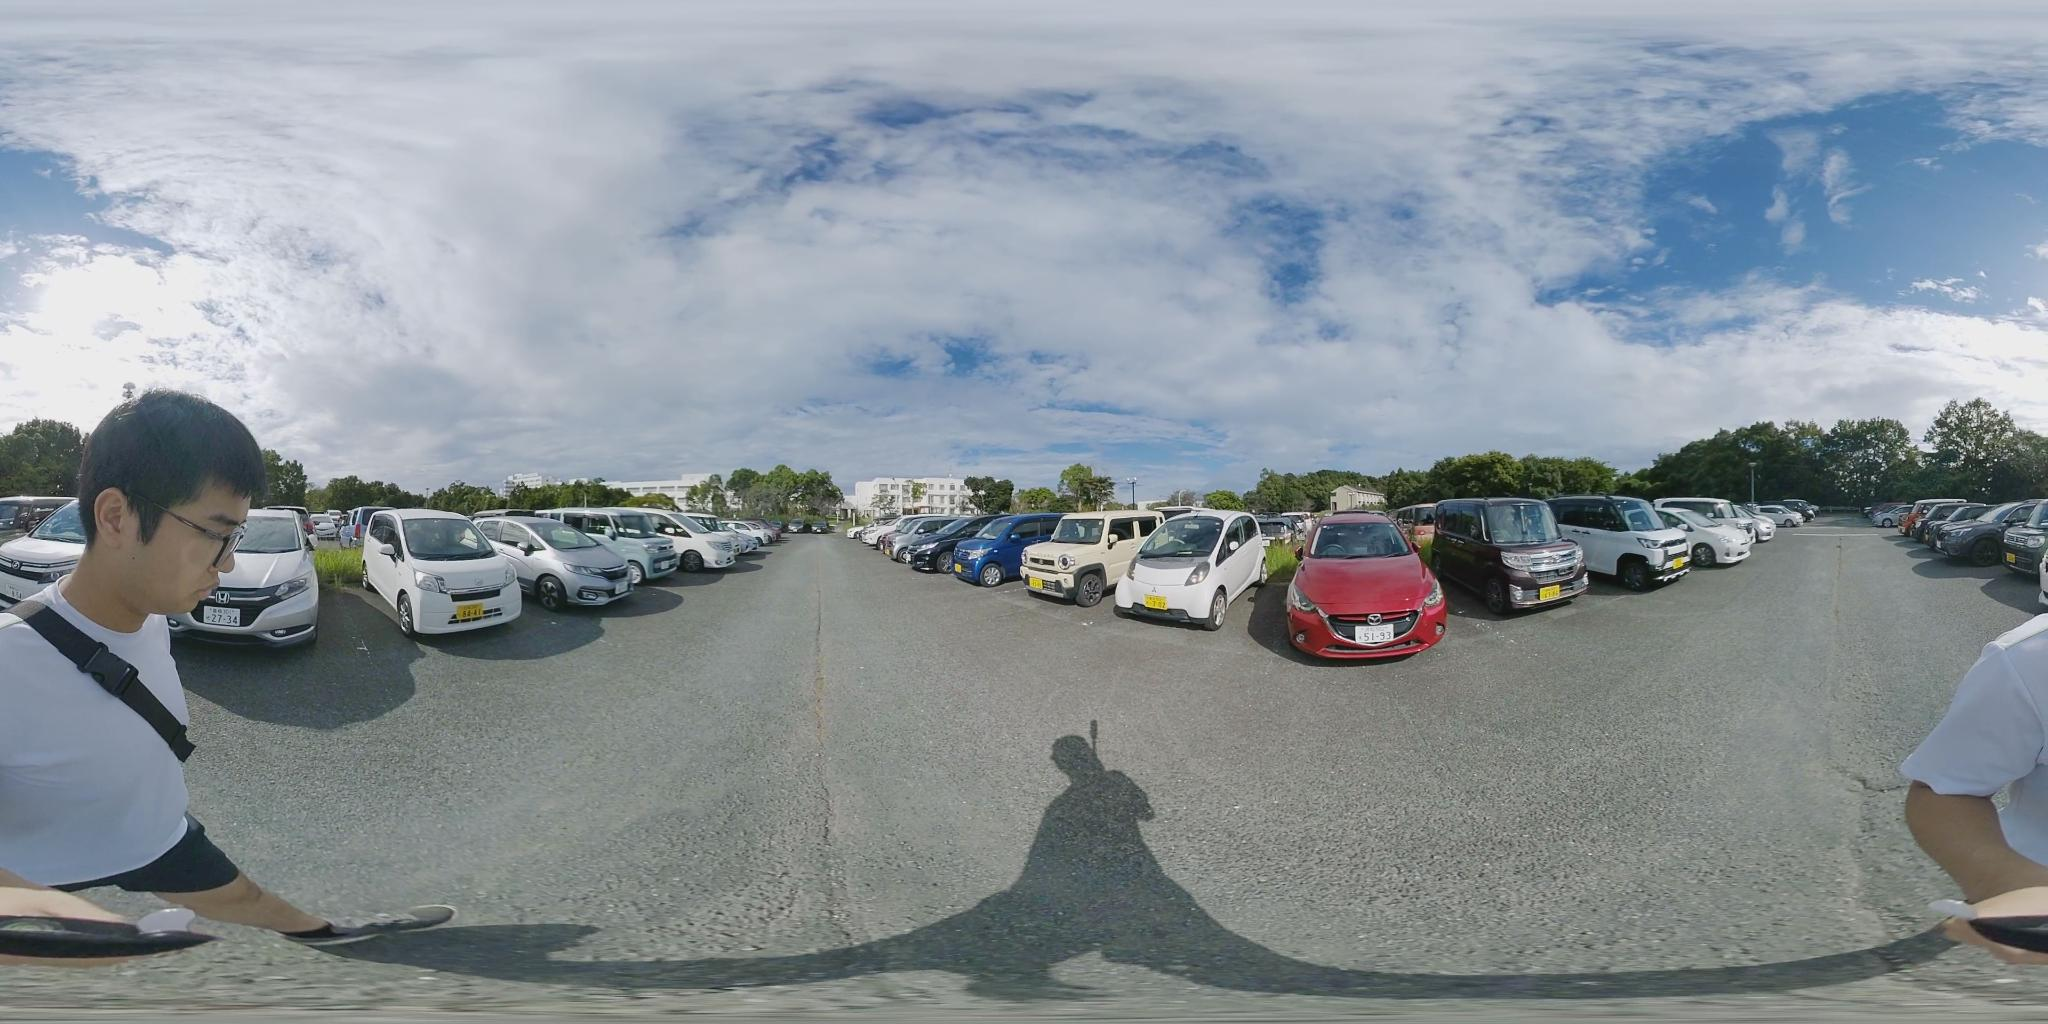car: (10, 503, 324, 652), (1280, 512, 1454, 664), (1399, 499, 1592, 615), (355, 515, 526, 637), (183, 511, 323, 649), (1112, 515, 1275, 632), (1536, 496, 1698, 592), (482, 517, 656, 601), (1017, 513, 1165, 602), (536, 509, 725, 575), (946, 515, 1064, 584), (1657, 499, 1768, 562), (649, 513, 772, 568), (1917, 504, 2013, 560), (1972, 499, 2048, 567), (896, 516, 976, 568), (1896, 499, 1970, 536), (1749, 500, 1817, 526)
